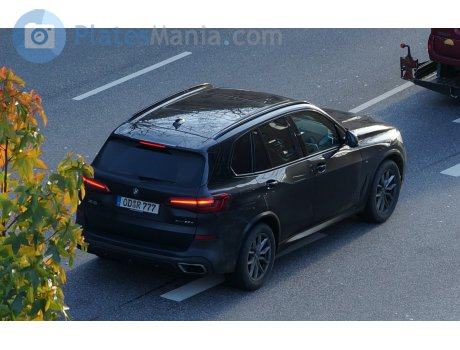License Plates: (122, 195, 156, 209)
